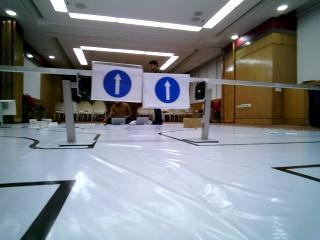straight: (94, 64, 139, 100), (147, 73, 190, 105)
